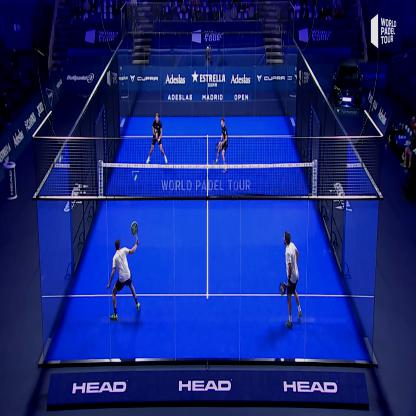ball: (132, 171, 140, 184)
